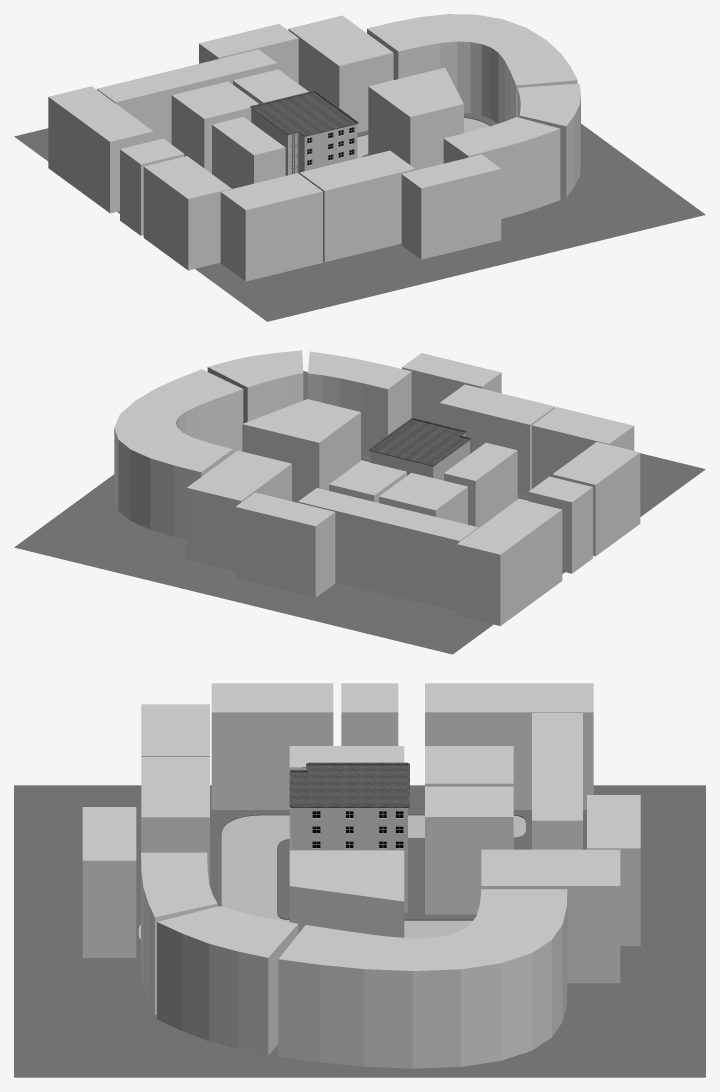
Rendered from Cyberpunk City.fbx.
3 views of the same model, one above another, from view 1: azimuth 30°, elevation 25°; view 2: azimuth 150°, elevation 25°; view 3: azimuth 270°, elevation 25° (orthographic). The views are drawn at different scales.
Visible parts, largest first — view 1: Buildings, Terrain, Buildings 2; view 2: Buildings, Buildings 2, Terrain; view 3: Buildings, Terrain, Buildings 2.
Part boxes in pixels (x1=…): Buildings: x1=48, y1=15, x2=501, y2=281; Terrain: x1=14, y1=113, x2=705, y2=321; Buildings 2: x1=367, y1=14, x2=580, y2=218; Buildings: x1=186, y1=353, x2=640, y2=625; Buildings 2: x1=114, y1=350, x2=411, y2=539; Terrain: x1=14, y1=371, x2=705, y2=654; Buildings: x1=82, y1=683, x2=640, y2=983; Terrain: x1=14, y1=785, x2=705, y2=1077; Buildings 2: x1=141, y1=852, x2=567, y2=1068.
Size of the model in its own units: 12691 by 2151 by 12500.
